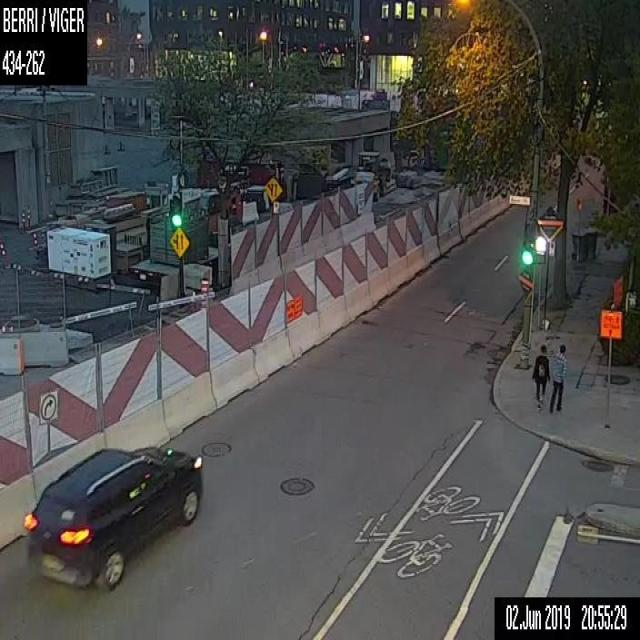construction: (598, 306, 622, 429), (200, 277, 208, 308)
pedestrian: (550, 343, 566, 413), (532, 344, 548, 411)
vehicle: (22, 444, 202, 588)
